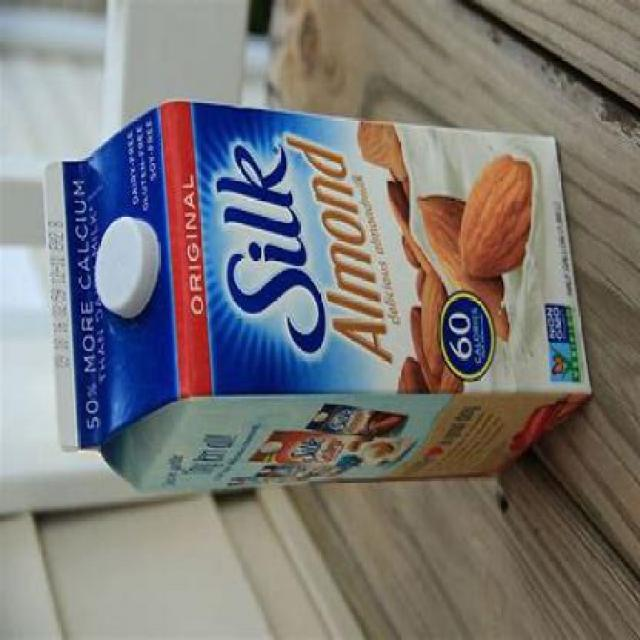non_white_jug: (37, 97, 599, 501)
